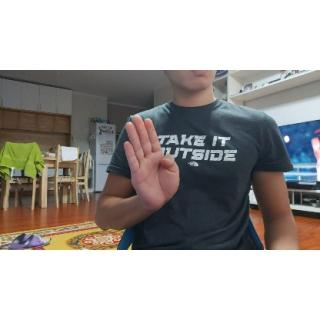KAAF: (121, 112, 182, 210)
